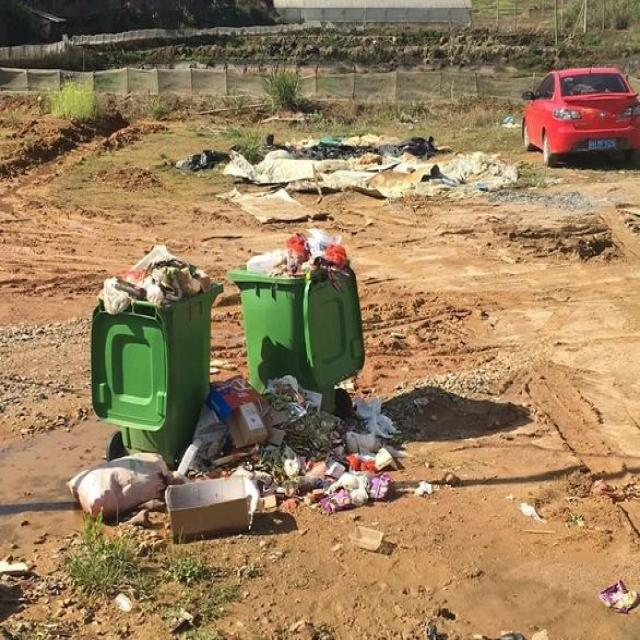garbage: (60, 372, 401, 550)
overflow: (88, 242, 222, 468), (227, 226, 363, 411)
